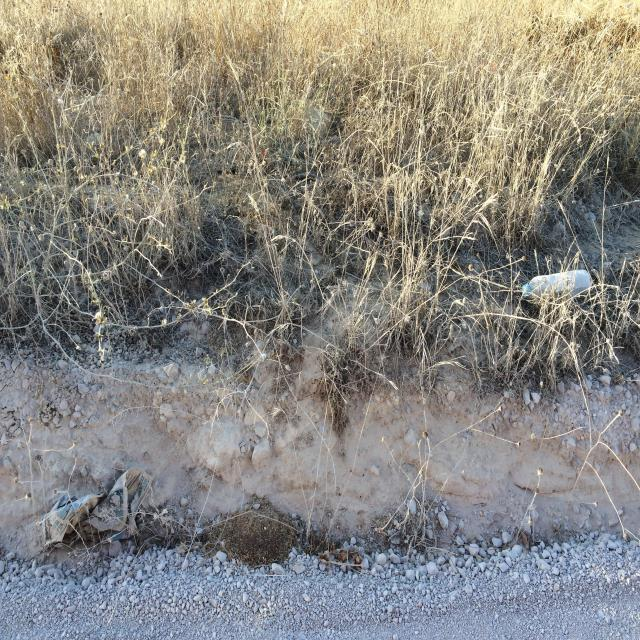litter: (519, 271, 595, 301)
